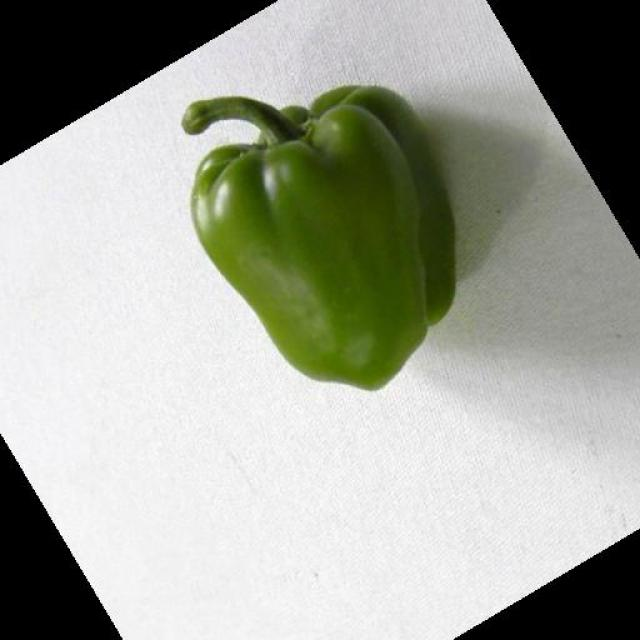Fresh_Capsicum: (185, 103, 447, 397)
